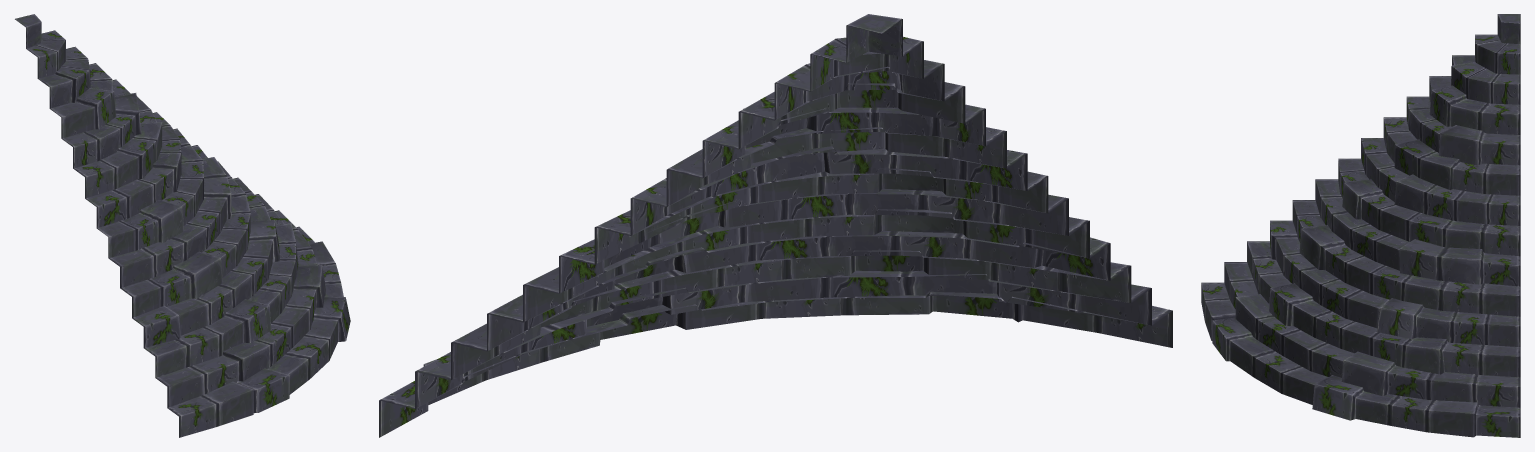
File: MOD_Stairs_01_E_convex_1.fbx
The picture shows the model from 3 angles, left to right: view 1: azimuth 30°, elevation 25°; view 2: azimuth 150°, elevation 25°; view 3: azimuth 270°, elevation 25°; orthographic projection. The views are drawn at different scales.
Visible parts, largest first — view 1: MOD_Stairs_01_E_convex_1; view 2: MOD_Stairs_01_E_convex_1; view 3: MOD_Stairs_01_E_convex_1.
Part boxes in pixels (x1,y1,x2,y2): MOD_Stairs_01_E_convex_1: [15, 14, 350, 437]; MOD_Stairs_01_E_convex_1: [379, 14, 1172, 437]; MOD_Stairs_01_E_convex_1: [1201, 14, 1520, 437].
Size of what is drawn, in the model's own units: 400 by 400 by 400.
